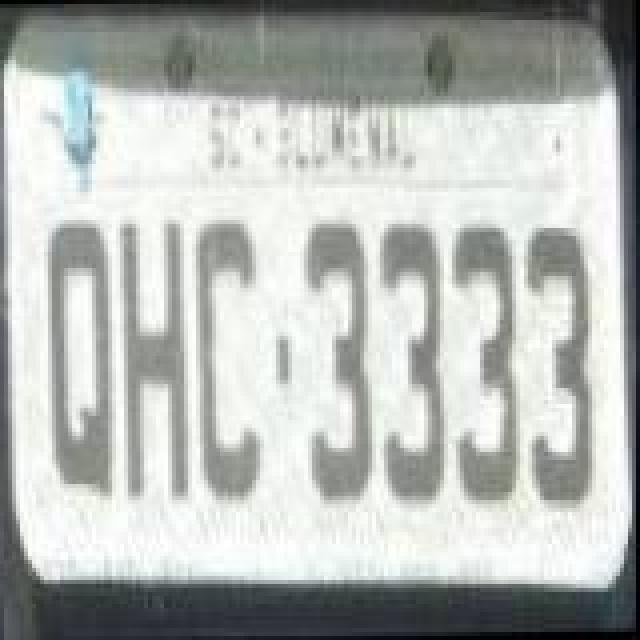3: (520, 220, 596, 508), (302, 212, 374, 504), (378, 218, 450, 510), (450, 218, 522, 510)
C: (194, 214, 266, 506)
H: (122, 212, 194, 512)
Q: (42, 218, 114, 510)
